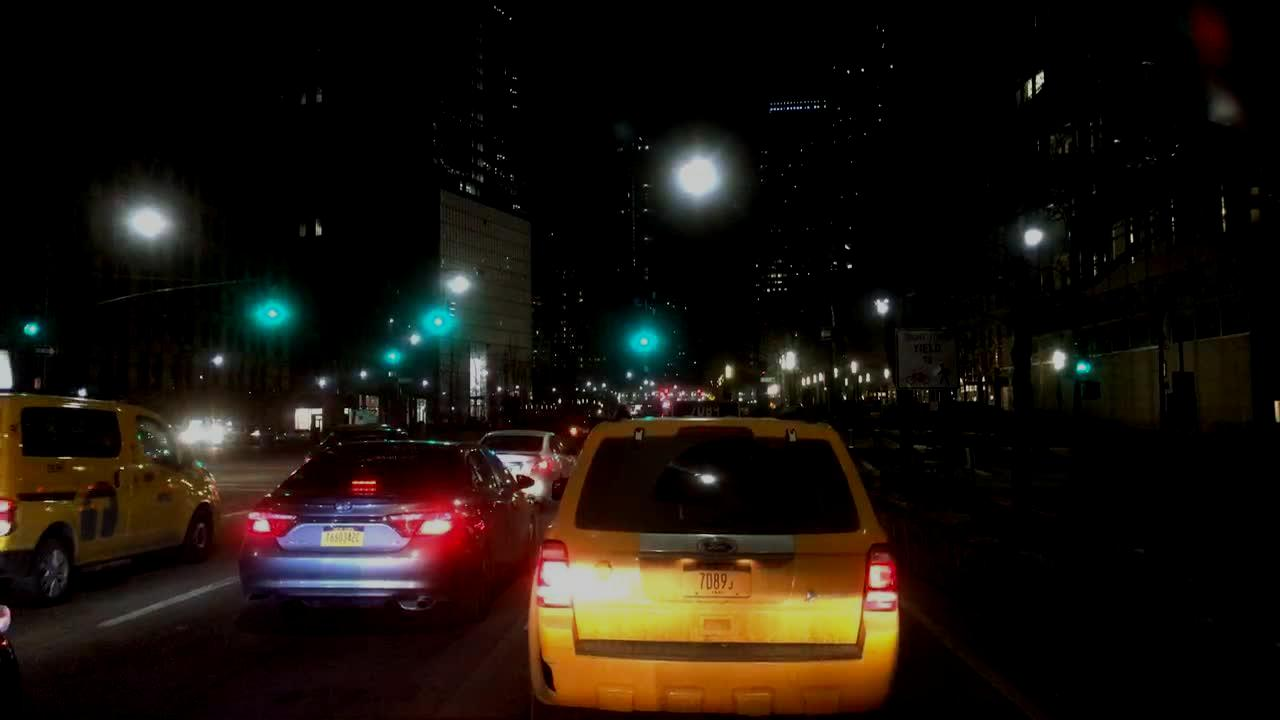ford: (702, 538, 736, 556)
